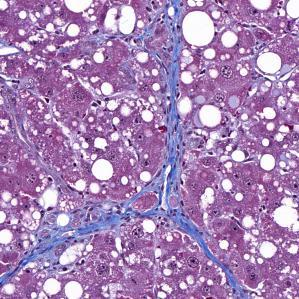fibrosis: (63, 193, 200, 246), (154, 63, 201, 190)
